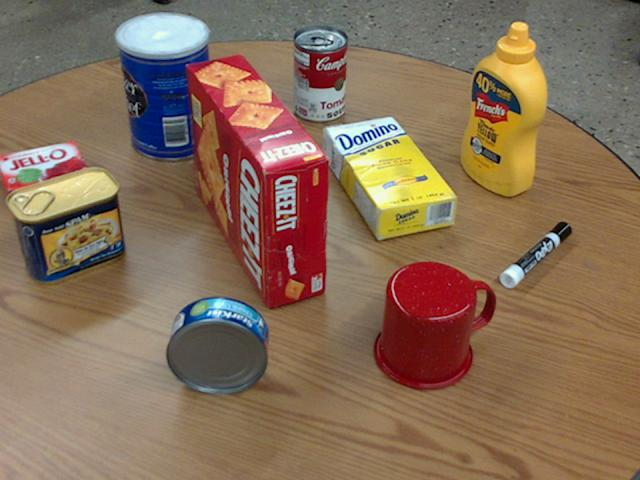cracker_box: (184, 55, 328, 306)
gelatin_box: (0, 140, 89, 206)
large_marker: (500, 222, 571, 288)
master_chef_can: (115, 13, 212, 160)
mug: (373, 260, 494, 389)
mustard_bottle: (461, 23, 546, 195)
potted_meat_can: (6, 165, 123, 281)
sugar_box: (323, 117, 456, 238)
tomato_soup_can: (292, 25, 347, 121)
tuna_fish_can: (167, 296, 268, 392)
